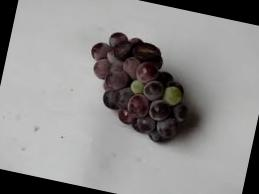Grape Rotten: (75, 27, 201, 146)
